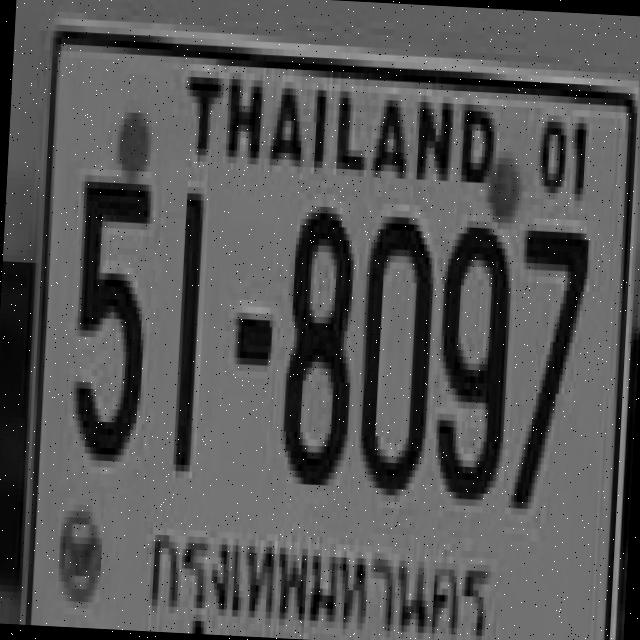0: (353, 210, 434, 490)
1: (172, 187, 203, 465)
5: (68, 172, 150, 460)
7: (508, 224, 586, 505)
8: (278, 199, 356, 480)
9: (431, 217, 512, 498)
Bangkok: (136, 507, 499, 640)
